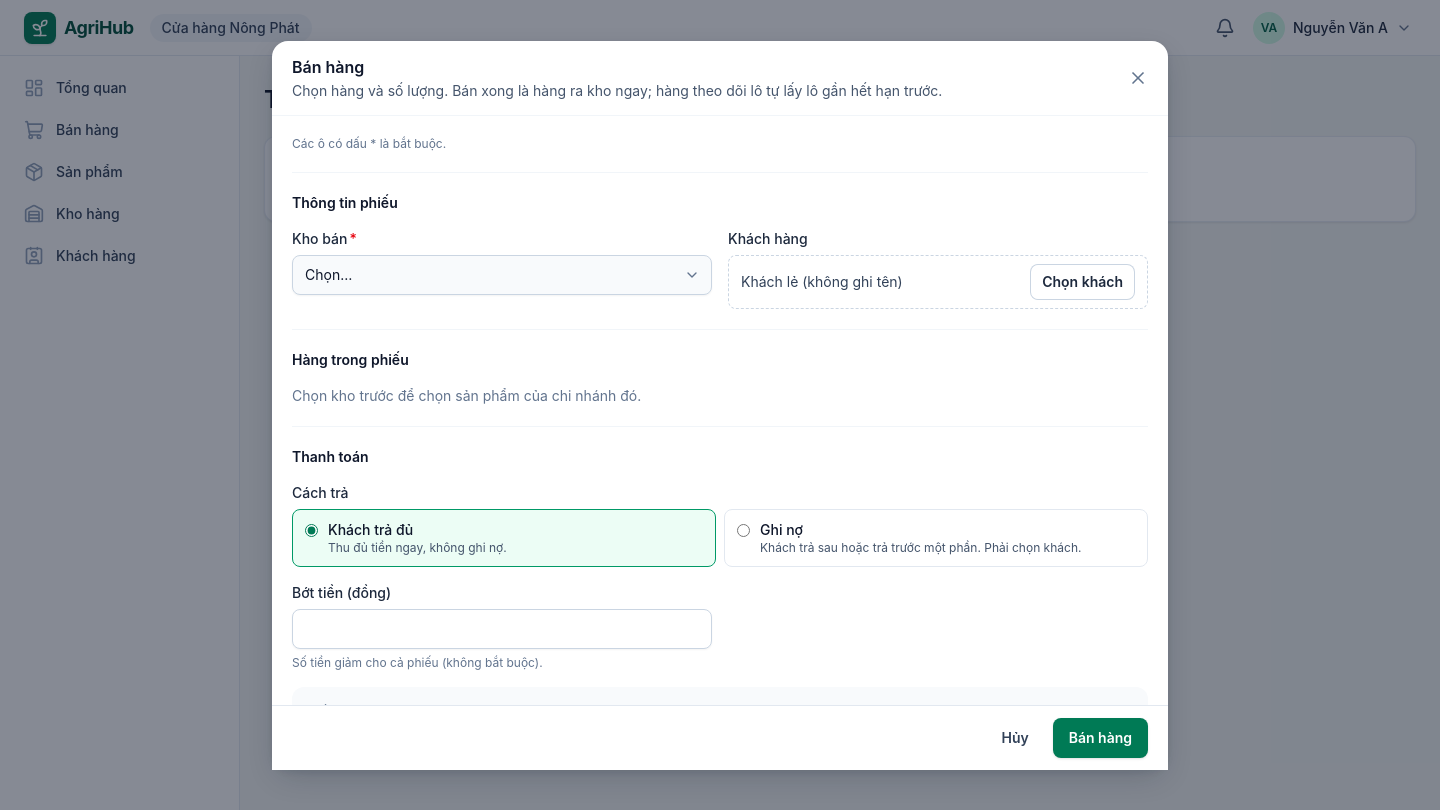
Test: bán hàng: lập phiếu › lỗi 422 của máy chủ hiện đúng ô: hạn mức công nợ ở khách, thiếu tồn ở dòng, kho đang kiểm kê ở kho
This screenshot has width=1440, height=810.
Select "Kho chính" in the dropdown labelled "Kho bán" at (502, 274), box [292,254,712,294]
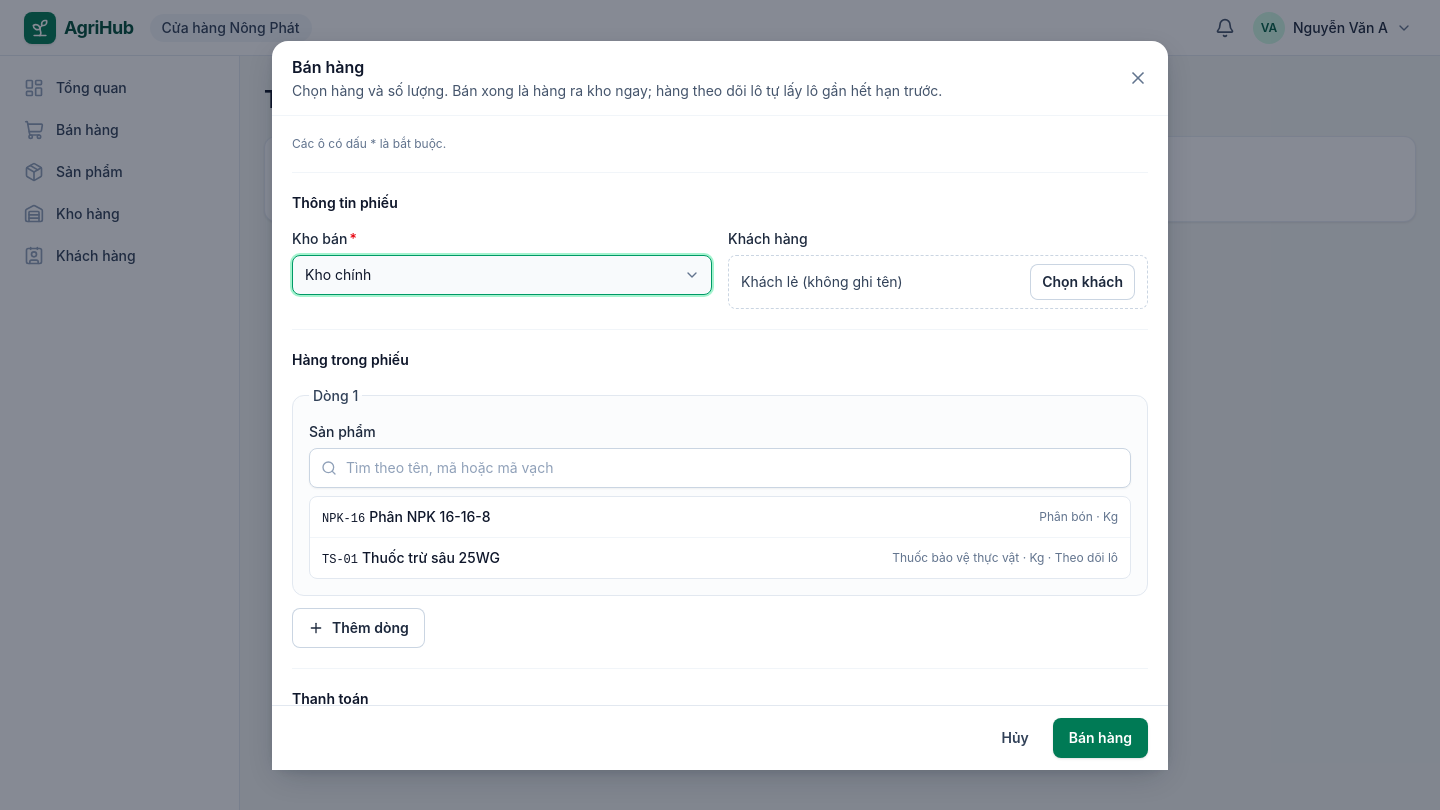
Click the button "NPK-16 Phân NPK 16-16-8 Phân bón · Kg" at (344, 518), box [310,496,1130,536]
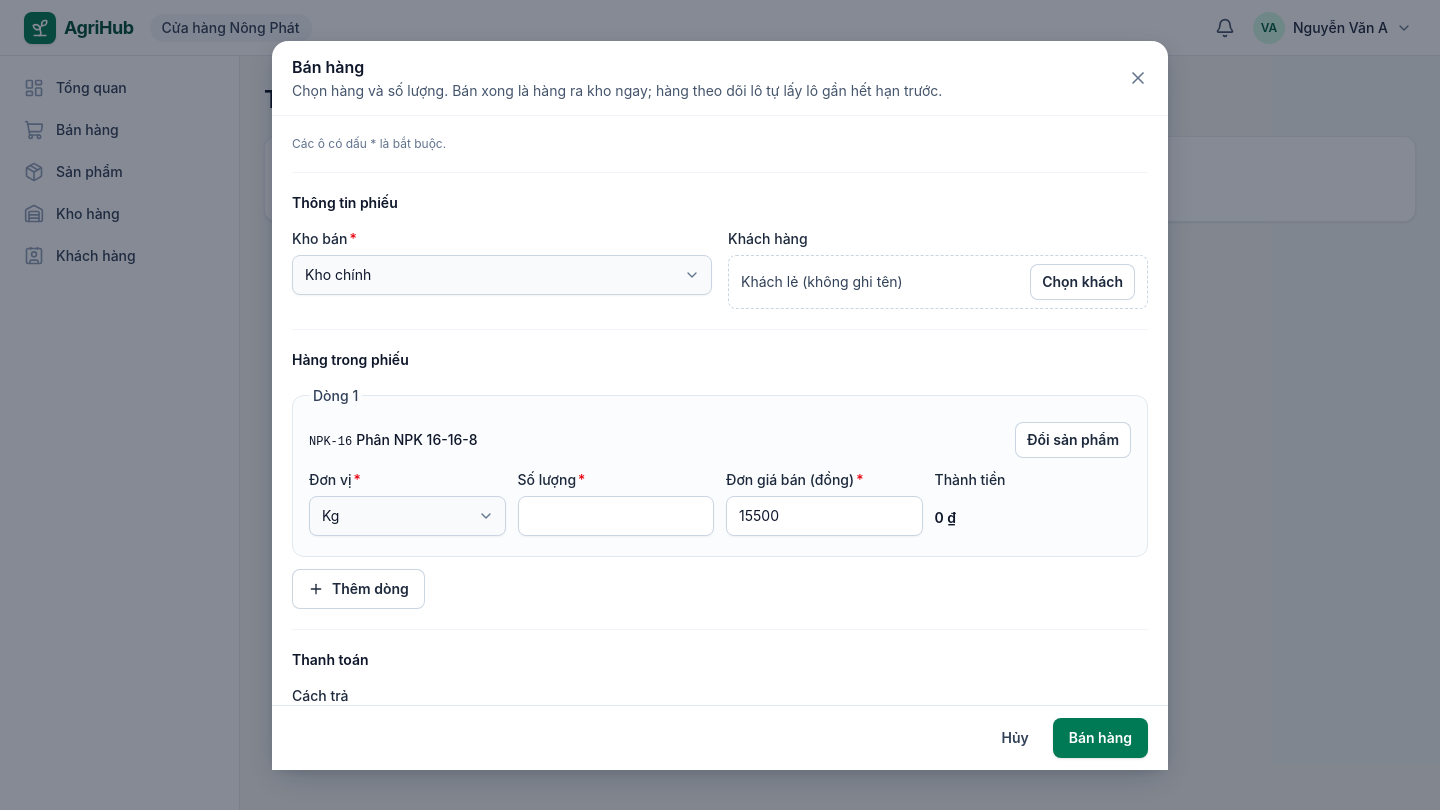
Type "25" into the field labelled "Số lượng" at (616, 516), box [518,496,714,536]
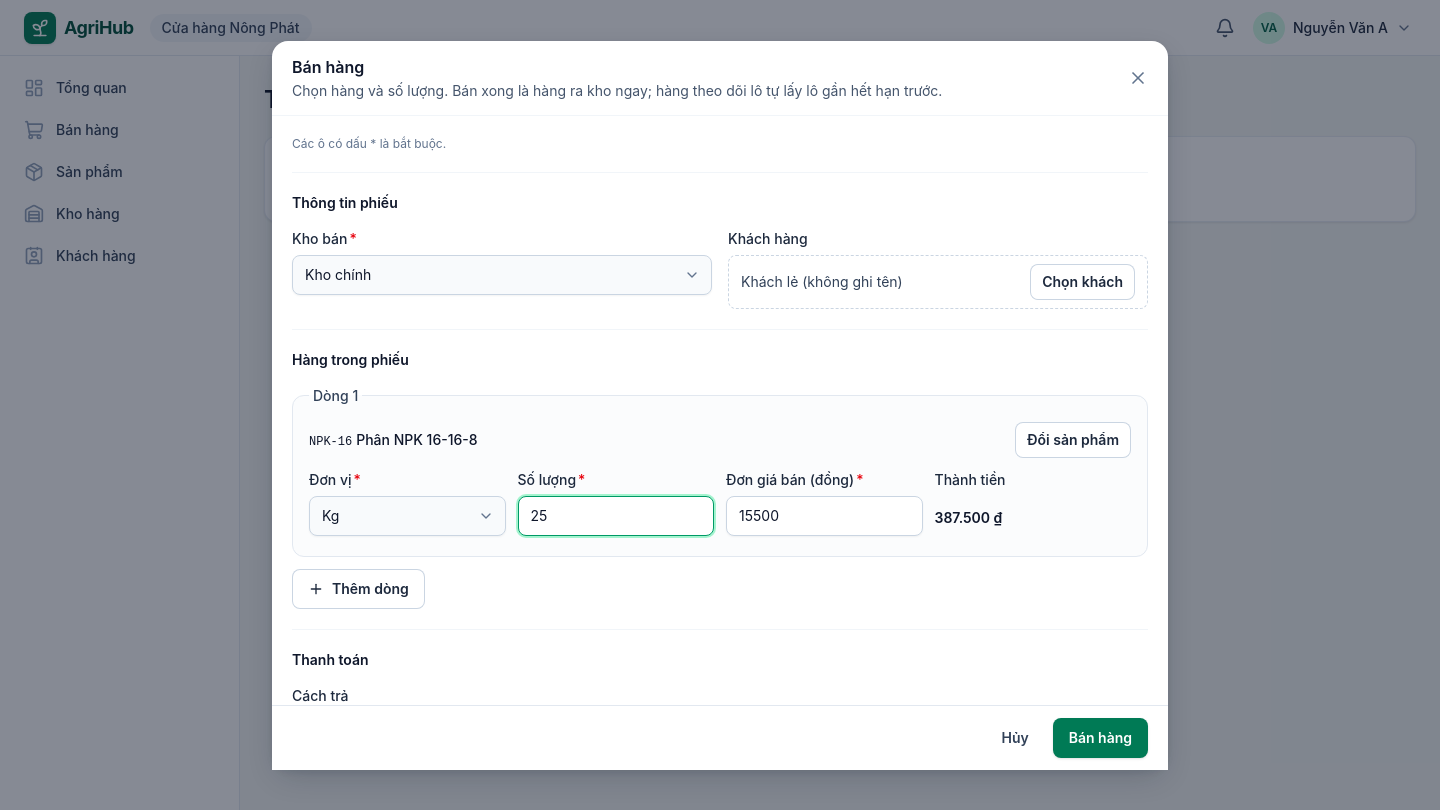
Click the button "Bán hàng" at (1100, 738), box [1053,718,1148,758]
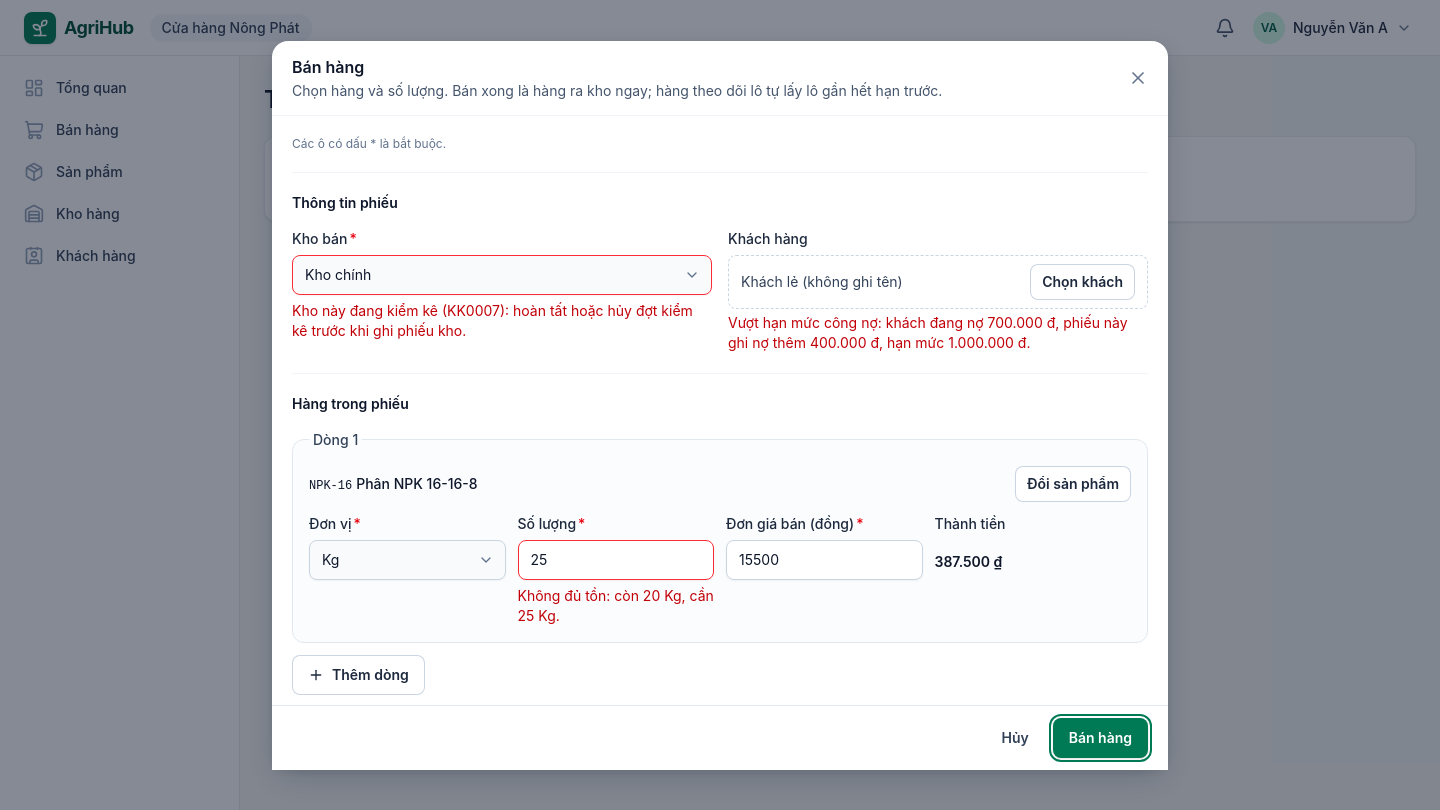
Check: the text "Không đủ tồn: còn 20 Kg, cần 25 Kg." is shown, box [518,586,714,626]
Check: the text "Vượt hạn mức công nợ: khách đang nợ 700.000 đ" is shown, box [728,314,1128,350]
Check: the text "Kho này đang kiểm kê (KK0007)" is shown, box [292,302,693,338]
